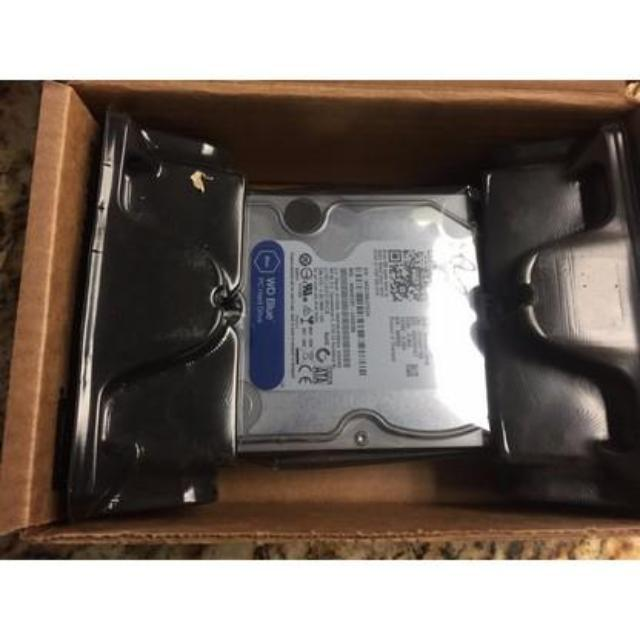DISK: (239, 188, 492, 463)
